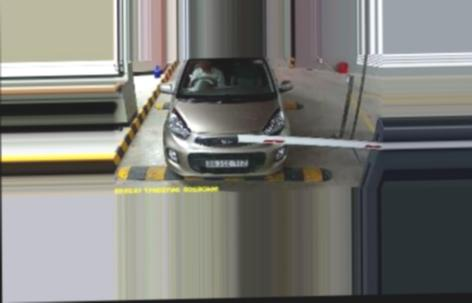License_Plate: (206, 156, 250, 170)
